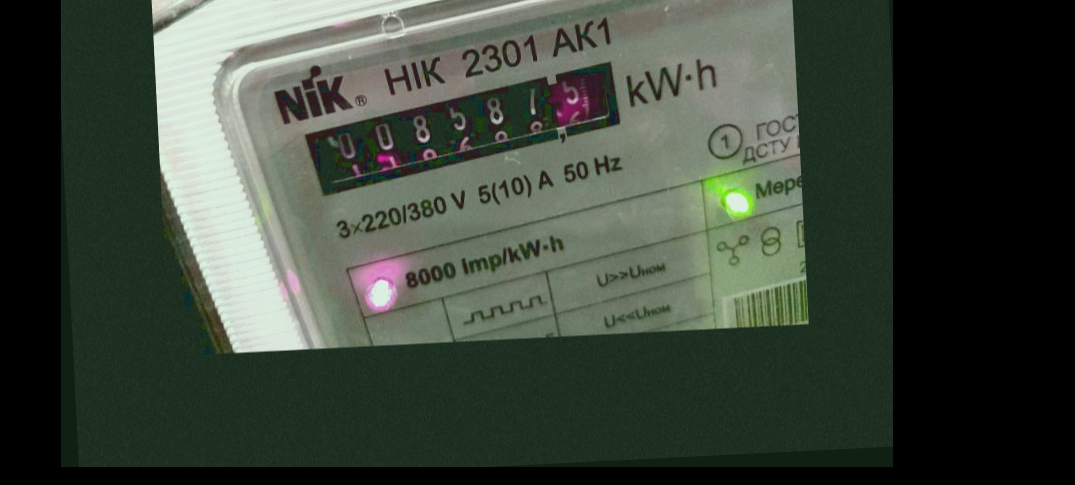0: (371, 115, 399, 150), (334, 125, 361, 158)
5: (446, 98, 471, 130), (559, 71, 583, 103)
6: (566, 105, 585, 123)
7: (521, 82, 544, 117)
8: (410, 109, 436, 142), (483, 90, 508, 124)
screen: (294, 57, 647, 196)
